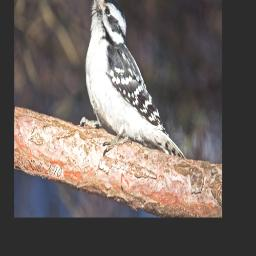Woodpecker: (77, 0, 185, 159)
